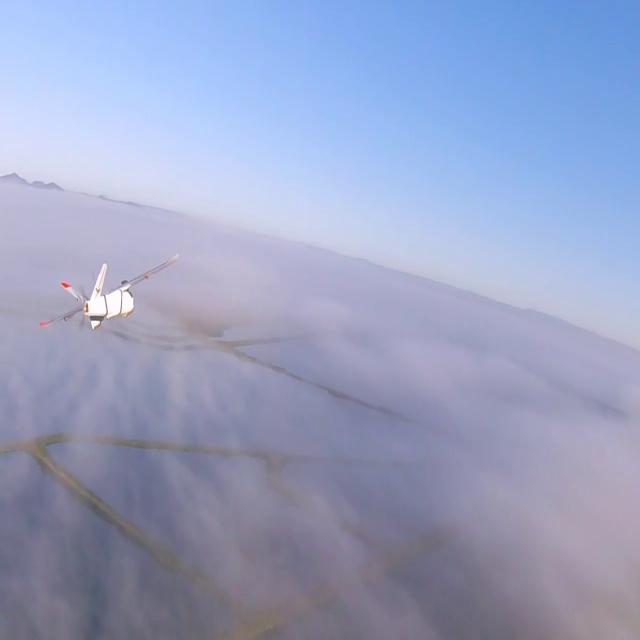iha: (0, 284, 116, 301)
